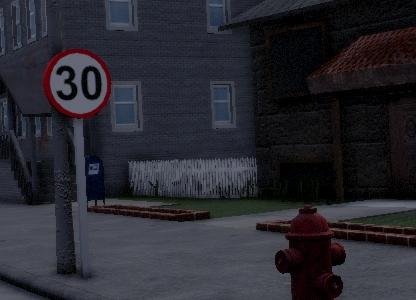Speed_30: (39, 43, 113, 118)
